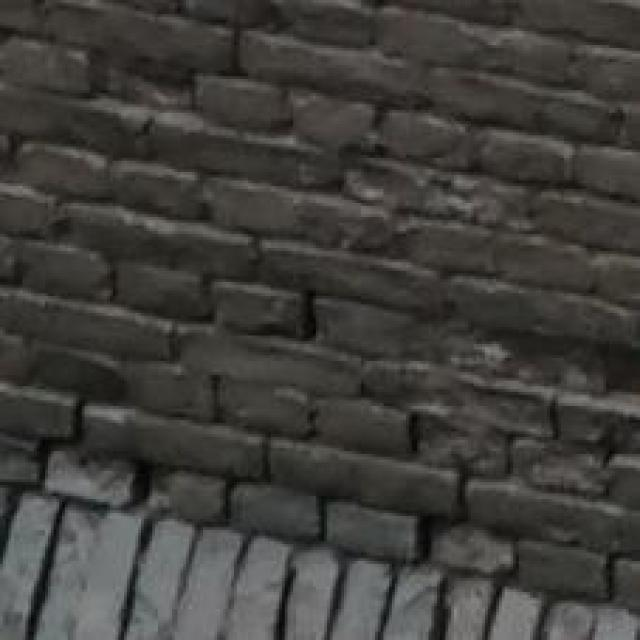Crack: (174, 238, 640, 526)
